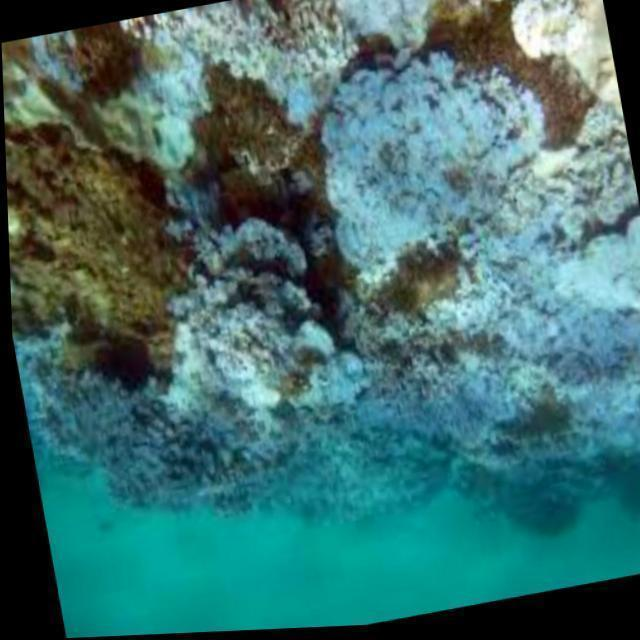Dead Coral: (129, 208, 336, 451)
